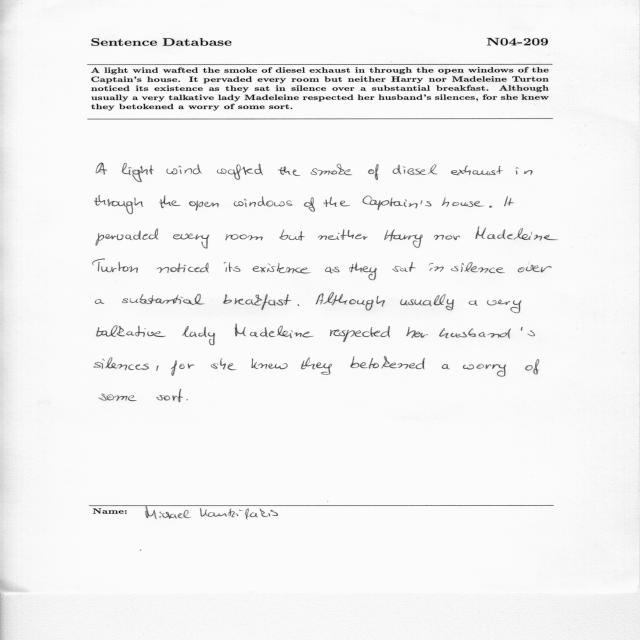word: (316, 292, 385, 311), (475, 226, 558, 241), (96, 228, 159, 246), (235, 324, 314, 338), (224, 294, 292, 310), (439, 327, 535, 338), (350, 357, 425, 370), (363, 196, 432, 210), (330, 326, 390, 342), (95, 195, 144, 214), (400, 294, 454, 311), (122, 294, 204, 305), (97, 325, 166, 337), (384, 229, 423, 248), (217, 164, 262, 180), (94, 357, 149, 370), (234, 196, 293, 207), (93, 259, 138, 273), (122, 163, 154, 182), (183, 326, 215, 345), (451, 262, 505, 273), (253, 263, 311, 273), (463, 364, 506, 377), (301, 357, 332, 375), (318, 229, 368, 240), (173, 234, 209, 249), (451, 166, 503, 176), (157, 263, 209, 273), (311, 164, 353, 176), (349, 262, 377, 280), (393, 164, 438, 175), (487, 300, 521, 313), (442, 197, 484, 207), (251, 359, 288, 370), (171, 360, 195, 376), (166, 165, 202, 175), (156, 389, 183, 402), (99, 394, 137, 402), (189, 201, 219, 211), (159, 196, 181, 209), (279, 230, 305, 241), (211, 359, 237, 370), (323, 197, 351, 207), (518, 265, 552, 273), (225, 234, 263, 241), (406, 327, 428, 338), (393, 262, 417, 272), (278, 166, 301, 176), (525, 359, 539, 375), (368, 164, 379, 180), (224, 262, 241, 272), (304, 197, 315, 212), (516, 167, 533, 175), (429, 263, 444, 272), (434, 235, 460, 240), (97, 163, 108, 174), (504, 196, 514, 206), (325, 267, 339, 273), (469, 300, 478, 306), (96, 299, 105, 304), (442, 364, 450, 369), (156, 365, 159, 371), (489, 206, 492, 208), (298, 304, 300, 306), (186, 399, 188, 401)
